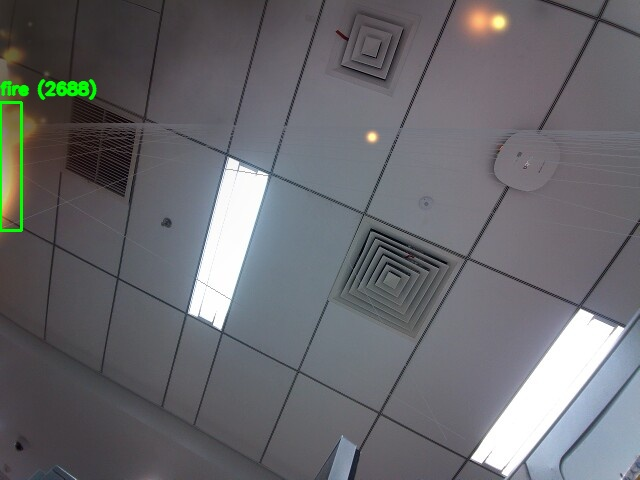fire: (0, 102, 21, 230)
